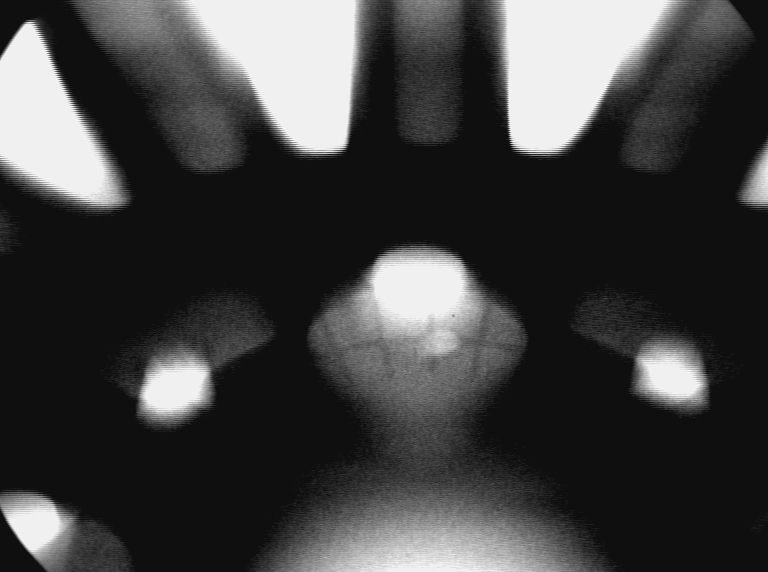defect: (415, 329, 467, 361)
